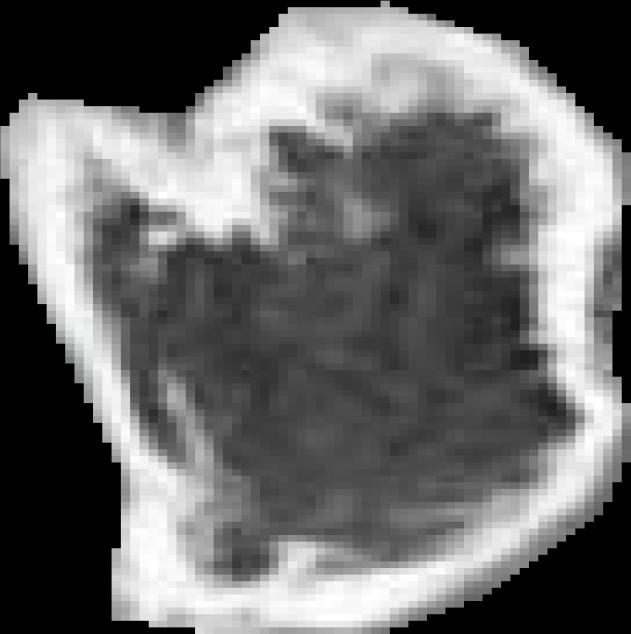tumor_moderate_chance: (0, 1, 631, 634)
